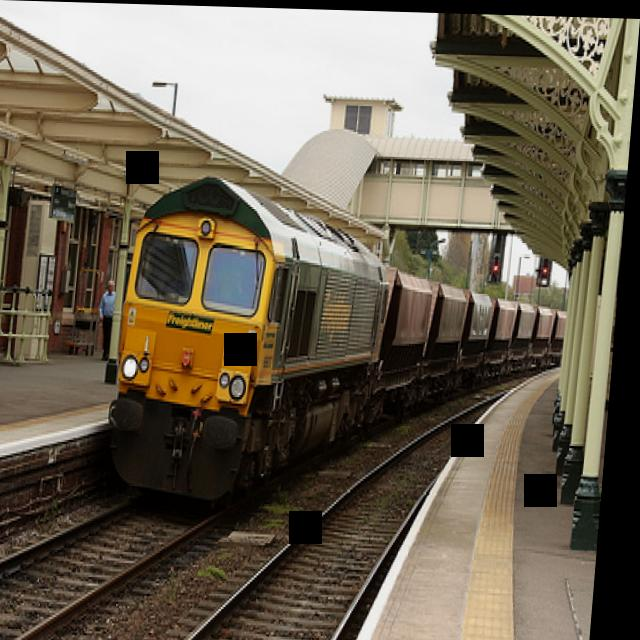hopper: (386, 257, 441, 417), (431, 265, 477, 400), (464, 277, 502, 394)
locomotive: (101, 162, 408, 526)
